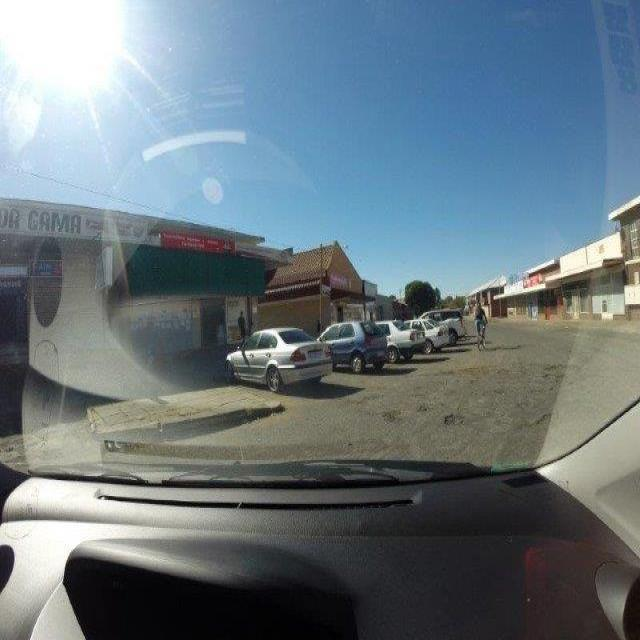jalan retak: (428, 362, 591, 437)
lubang: (439, 408, 469, 435), (380, 404, 408, 425)
